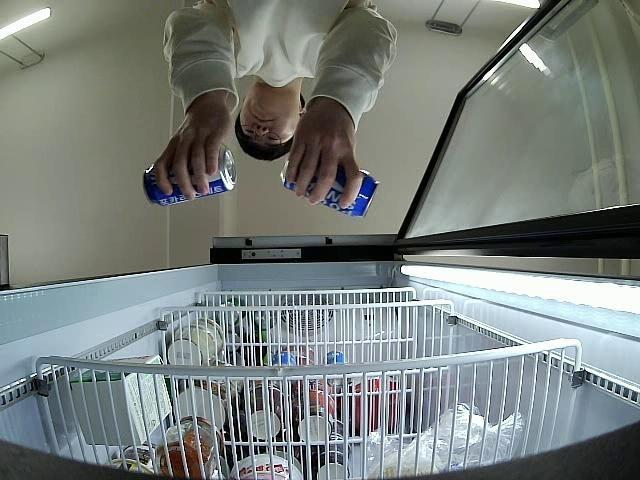13_pocariSweat: (280, 152, 379, 217), (142, 146, 238, 210)
